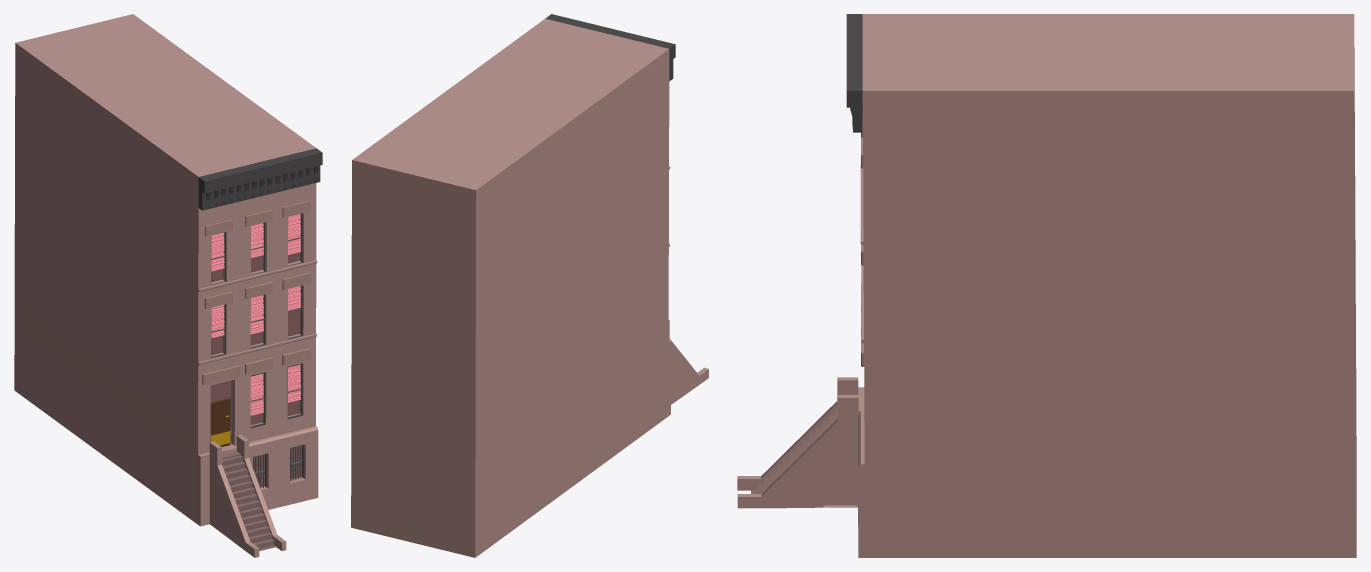
Rendered from brownstone.fbx.
The picture shows the model from 3 angles, left to right: view 1: azimuth 30°, elevation 25°; view 2: azimuth 150°, elevation 25°; view 3: azimuth 270°, elevation 25°; orthographic projection. The views are drawn at different scales.
Parts seen in each view (by area): view 1: Cube, crownMolding.001, Cube.055, Cube.054, Cube.056, Cube.057, Cube.041, Cube.047, Cube.045, Cube.053, Cube.039, Cube.037 (+2 smaller); view 2: Cube, Cube.055, crownMolding.001; view 3: Cube, Cube.056, crownMolding.001, Cube.055, Cube.054.
Part boxes in pixels (x1,y1,x2,y2): Cube: (14,14,318,526); crownMolding.001: (198,148,322,210); Cube.055: (209,441,259,557); Cube.054: (222,451,276,551); Cube.056: (236,435,286,550); Cube.057: (210,398,230,446); Cube.041: (250,374,264,415); Cube.047: (288,214,301,254); Cube.045: (250,295,264,334); Cube.053: (211,232,224,271); Cube.039: (288,364,301,402); Cube.037: (202,365,239,384); Cube: (351,18,670,557); Cube.055: (668,320,708,404); crownMolding.001: (545,14,675,81); Cube: (858,14,1356,557); Cube.056: (737,395,858,508); crownMolding.001: (846,14,862,132); Cube.055: (737,377,858,490); Cube.054: (751,408,837,493).
Bounding box in the file's own units: 373 × 1055 × 1267.
